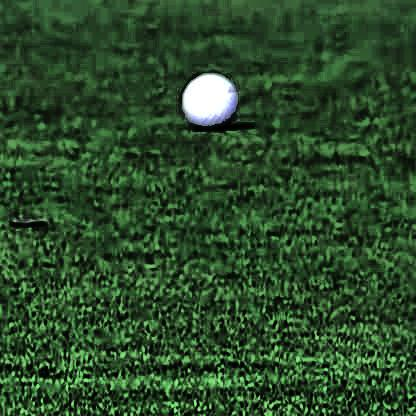golfball: (180, 65, 234, 124)
